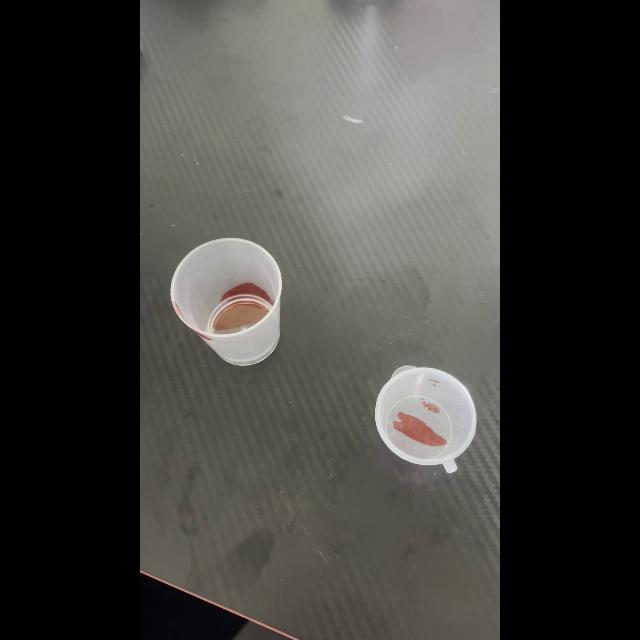dirty: (169, 240, 283, 364), (375, 366, 479, 470)
